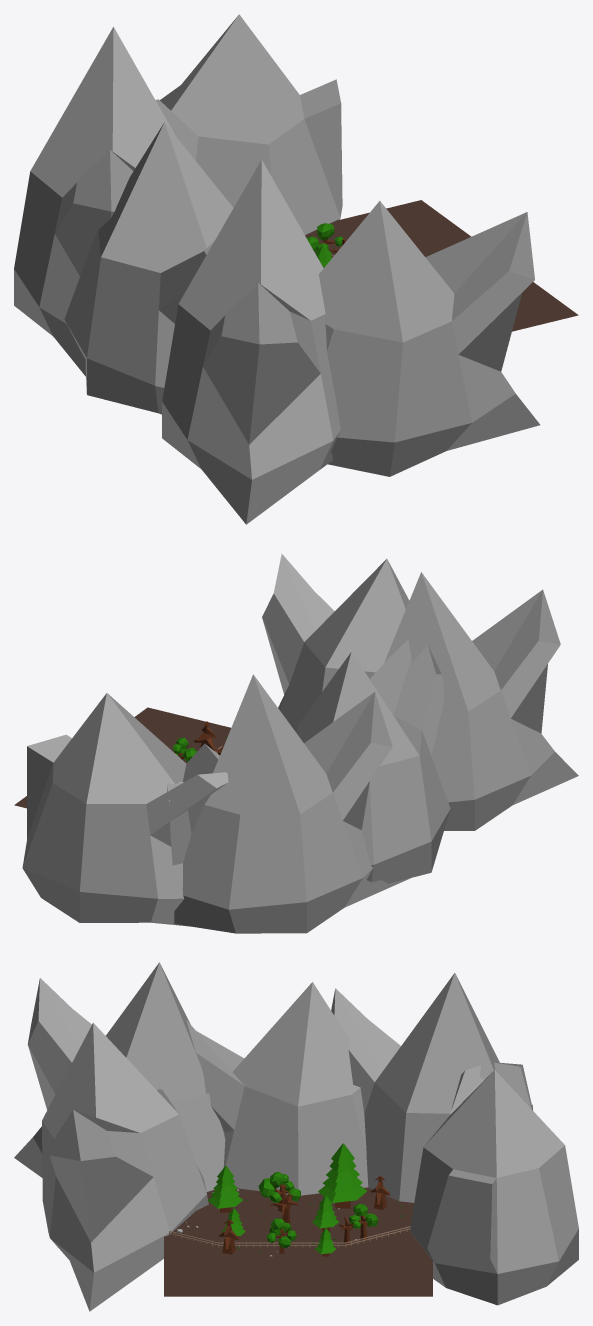
Rendered from LowPolyForestEnvironment.blend.fbx.
The picture shows the model from 3 angles, top to bottom: view 1: azimuth 30°, elevation 25°; view 2: azimuth 150°, elevation 25°; view 3: azimuth 270°, elevation 25°; orthographic projection. The views are drawn at different scales.
Parts seen in each view (by area): view 1: Mountain1.003, Mountain1.002, Mountain1, Mountain1.001, Mountain1.004, Plane; view 2: Mountain1.001, Mountain1.004, Mountain1.002, Mountain1, Mountain1.003, Plane; view 3: Mountain1.003, Mountain1.004, Mountain1, Plane, Mountain1.001, Mountain1.002, TreePine.003, TreePine.004, TreeRegular2.001, TreeRegular2, TreeRegular, TreePine.
Part boxes in pixels (x1,y1,x2,y2): Mountain1.003: [318, 201, 540, 476]; Mountain1.002: [162, 159, 340, 524]; Mountain1: [64, 122, 233, 414]; Mountain1.001: [14, 27, 175, 376]; Mountain1.004: [155, 14, 342, 235]; Plane: [305, 200, 578, 331]; Mountain1.001: [167, 674, 410, 933]; Mountain1.004: [22, 693, 228, 926]; Mountain1.002: [384, 572, 578, 830]; Mountain1: [296, 639, 450, 883]; Mountain1.003: [262, 553, 409, 732]; Plane: [14, 707, 230, 808]; Mountain1.003: [42, 1023, 208, 1311]; Mountain1.004: [409, 1062, 578, 1305]; Mountain1: [186, 982, 368, 1195]; Plane: [164, 1187, 432, 1296]; Mountain1.001: [331, 973, 532, 1202]; Mountain1.002: [14, 962, 225, 1191]; TreePine.003: [318, 1143, 366, 1208]; TreePine.004: [207, 1166, 242, 1212]; TreeRegular2.001: [258, 1171, 300, 1211]; TreeRegular2: [267, 1218, 296, 1253]; TreeRegular: [349, 1203, 378, 1240]; TreePine: [312, 1195, 338, 1231].
Size of the model in its own units: 12199 by 8110 by 16567.
